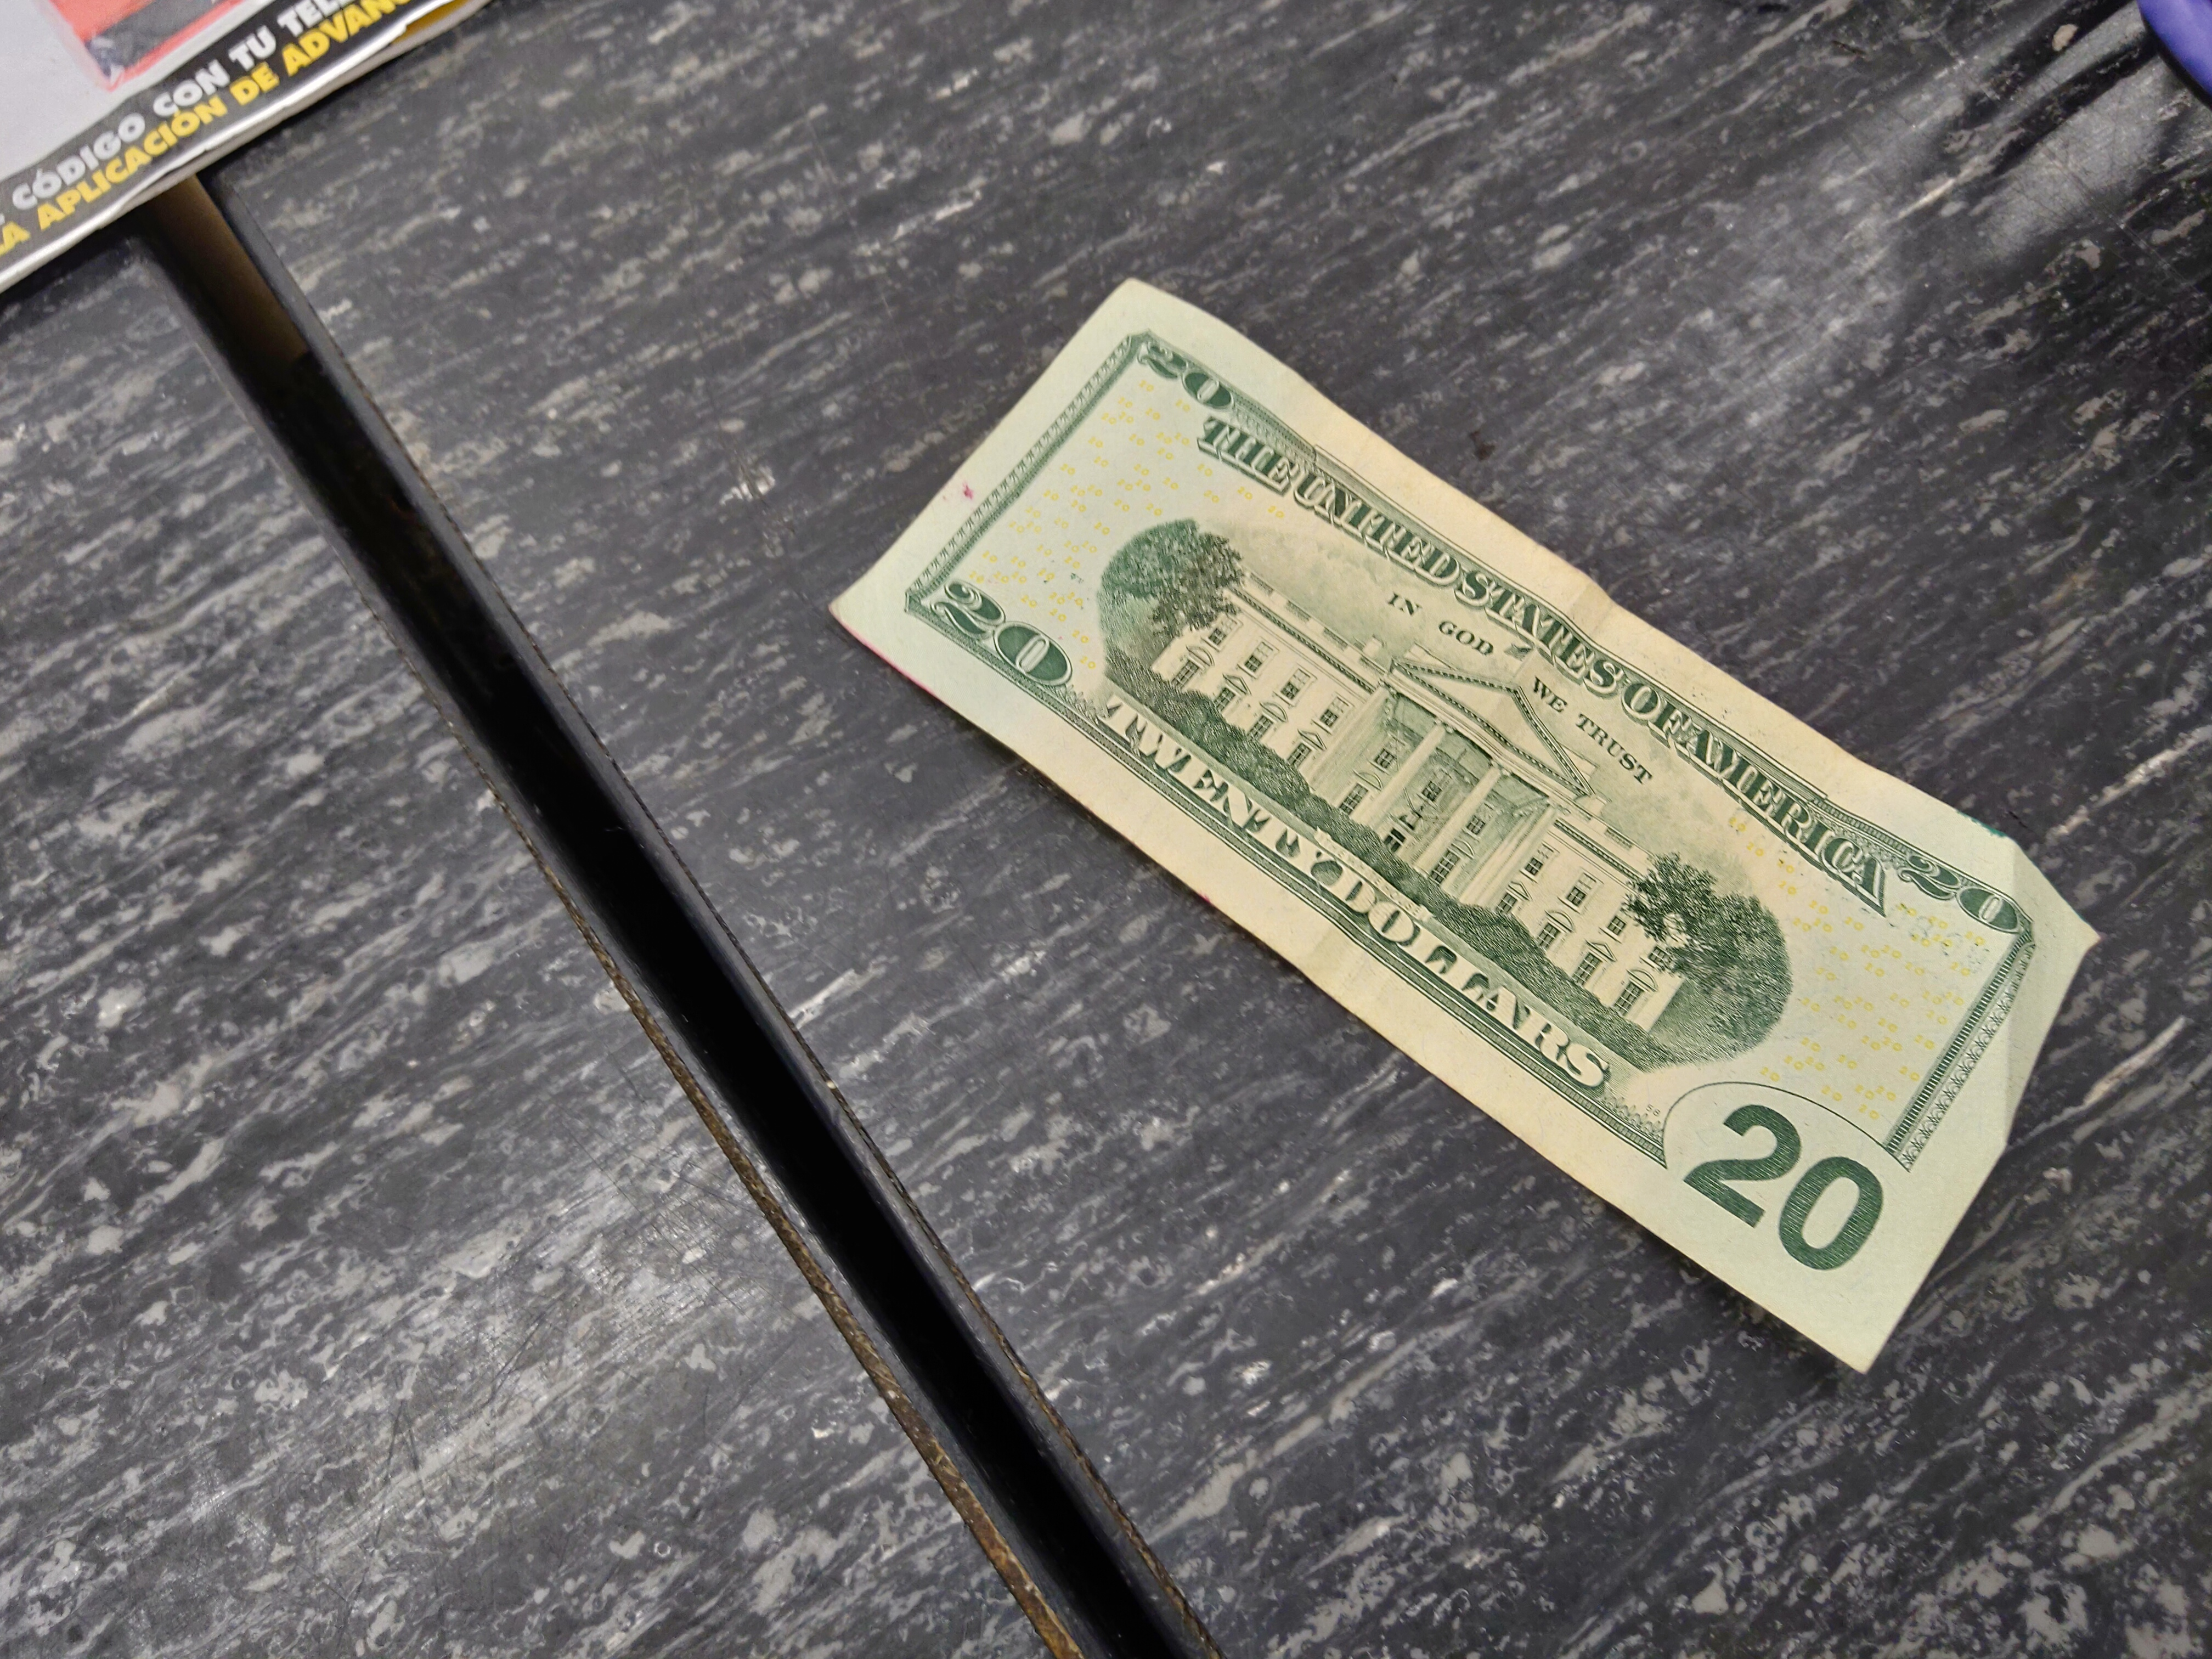TwentyBill: (829, 272, 2104, 1378)
